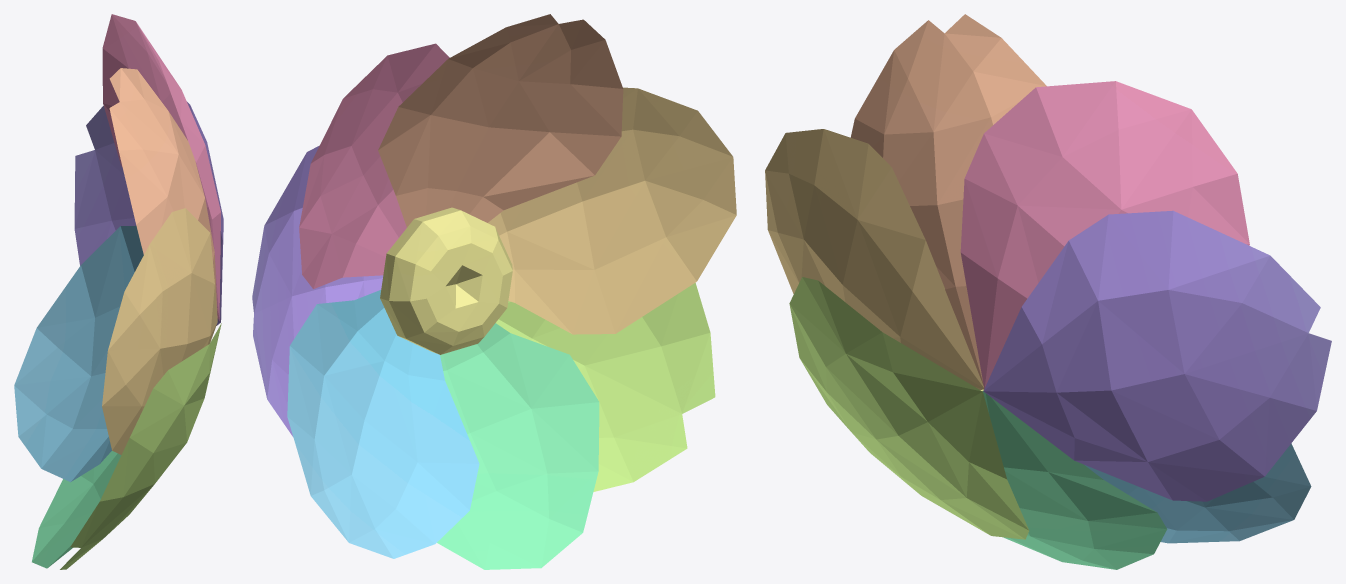
File: CharSkyKid_Horn_RainbowPoppy_02.glb
The picture shows the model from 3 angles, left to right: view 1: azimuth 30°, elevation 25°; view 2: azimuth 150°, elevation 25°; view 3: azimuth 270°, elevation 25°; orthographic projection. The views are drawn at different scales.
Visible parts, largest first — view 1: CharSkyKid_Horn_RainbowPoppy_02; view 2: CharSkyKid_Horn_RainbowPoppy_02; view 3: CharSkyKid_Horn_RainbowPoppy_02.
Boxes of the visible parts, x1,y1,x2,y2 form: CharSkyKid_Horn_RainbowPoppy_02: (14, 14, 223, 569); CharSkyKid_Horn_RainbowPoppy_02: (252, 14, 736, 569); CharSkyKid_Horn_RainbowPoppy_02: (765, 14, 1331, 569).
Size of the model in its own units: 0.4475 by 0.8229 by 0.7458.
Materials: 1 (1 with a texture image).
